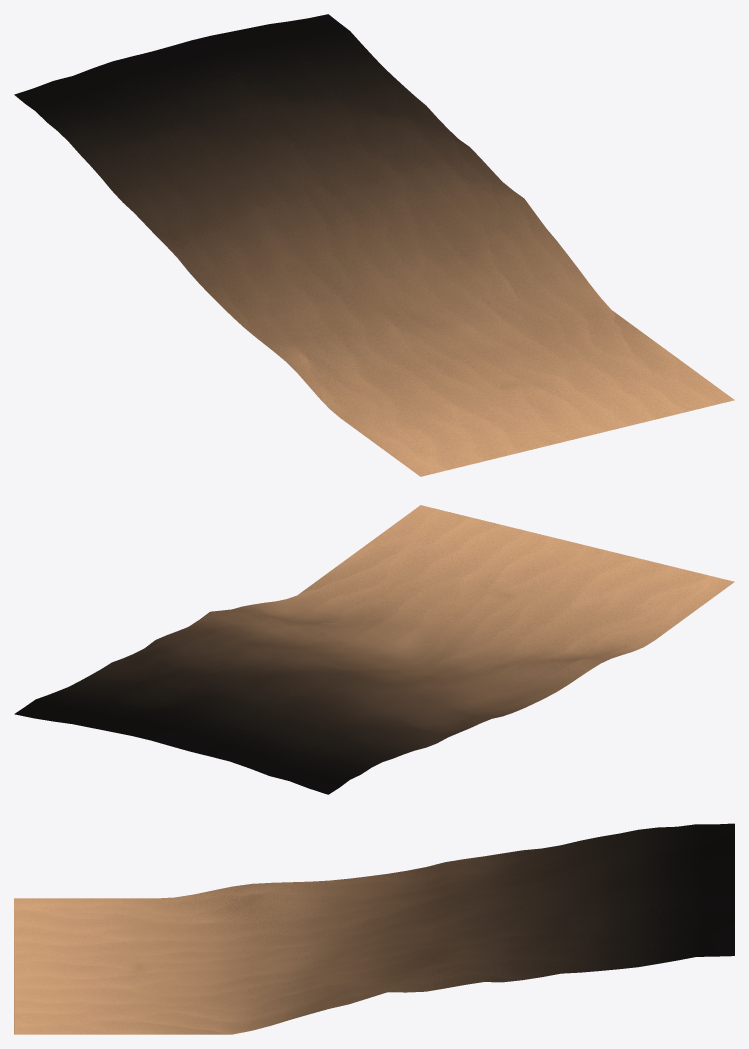
Rendered from map_0.gltf.
3 views of the same model, one above another, from view 1: azimuth 30°, elevation 25°; view 2: azimuth 150°, elevation 25°; view 3: azimuth 270°, elevation 25° (orthographic). The views are drawn at different scales.
Visible parts, largest first — view 1: landscape1; view 2: landscape1; view 3: landscape1.
Part boxes in pixels (x1,y1,x2,y2): landscape1: (14, 14, 734, 476); landscape1: (14, 505, 734, 794); landscape1: (14, 823, 734, 1034).
Bounding box in the file's own units: 9.38 × 2.72 × 21.
Materials: 1 (1 with a texture image).
